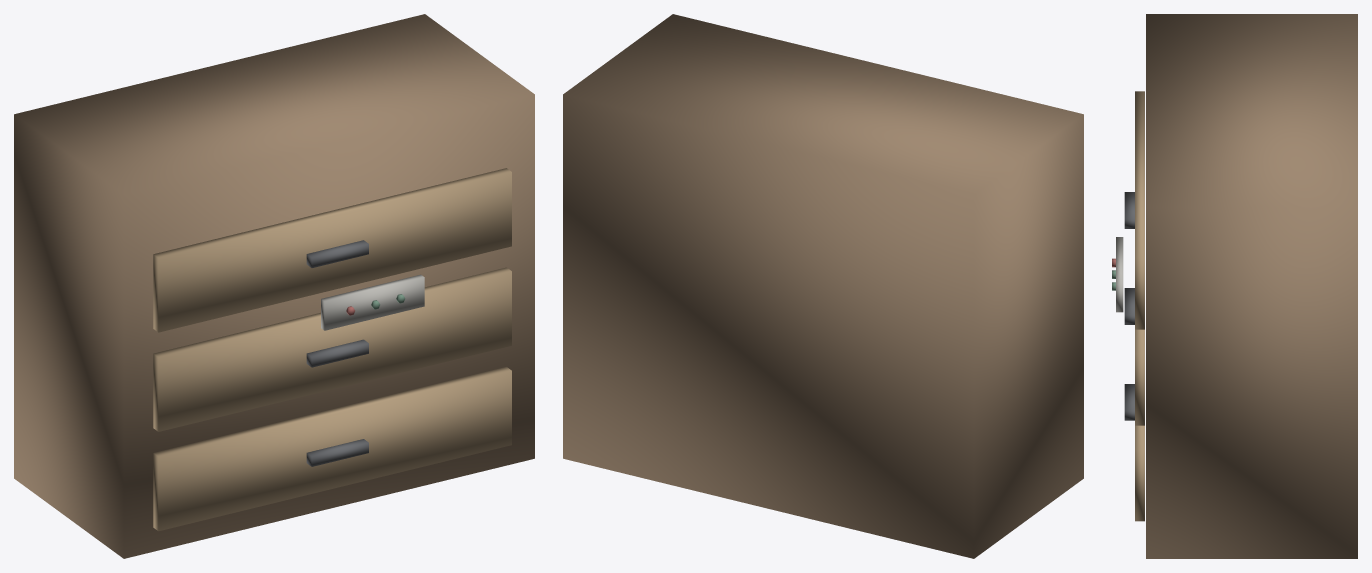
The model's file is residential_dresser__compact.glb.
3 views of the same model, side by side, from view 1: azimuth 30°, elevation 25°; view 2: azimuth 150°, elevation 25°; view 3: azimuth 270°, elevation 25° (orthographic). The views are drawn at different scales.
Visible parts, largest first — view 1: world; view 2: world; view 3: world.
Boxes of the visible parts, left/top/right/bottom form: world: left=14, top=14, right=534, bottom=558; world: left=563, top=14, right=1083, bottom=558; world: left=1112, top=14, right=1357, bottom=558.
Bounding box in the file's own units: 0.966 × 0.8184 × 0.519.
